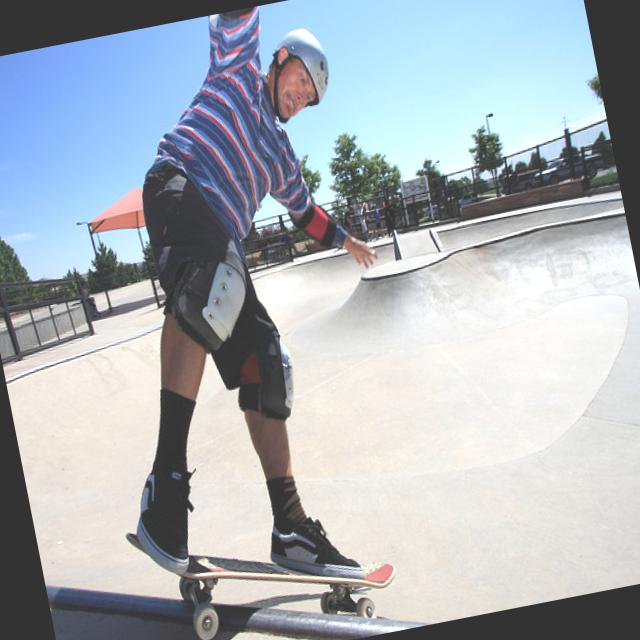Vehicle: (540, 154, 586, 186)
